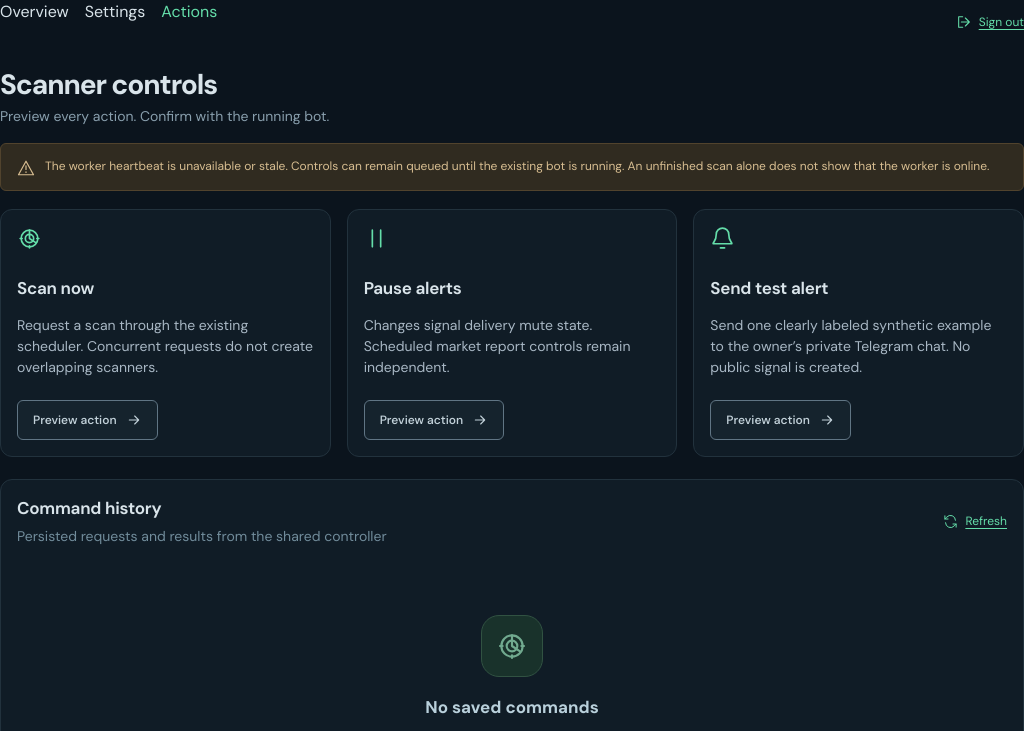
Scenario: shows failures and uncertain results without optimistic success
Check: the heading "Scanner controls" is shown, box [0,66,217,103]
Click the button "Preview action" below "Scan now": (87, 420) [17,400,158,440]
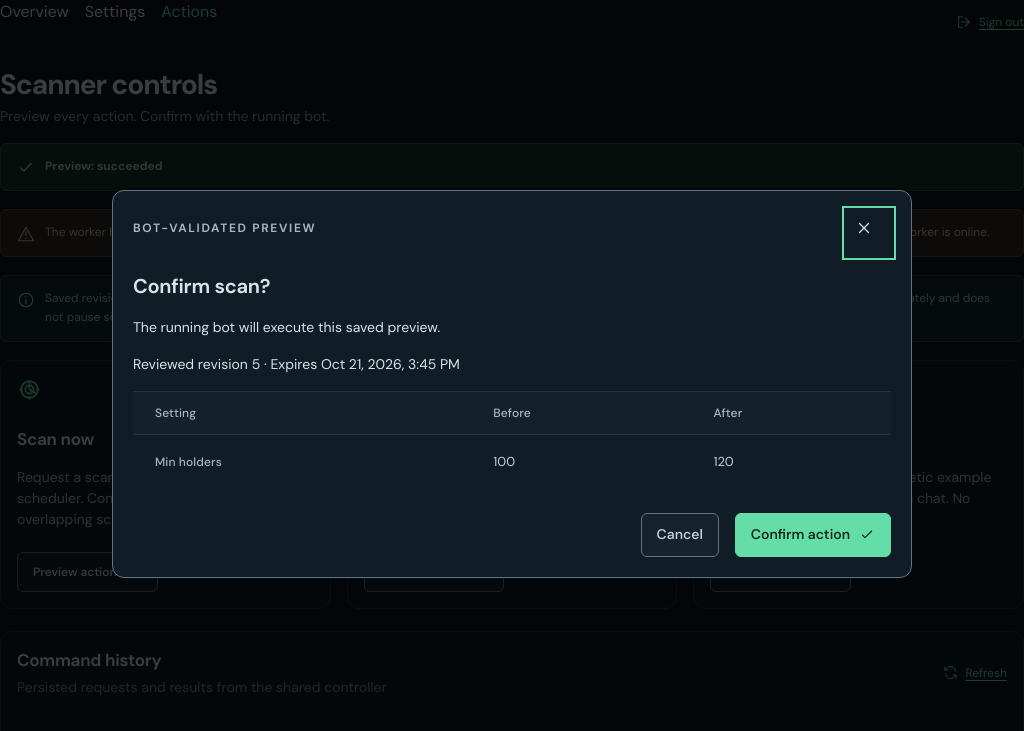
Click the button "Confirm action": (813, 535) [735,513,891,557]
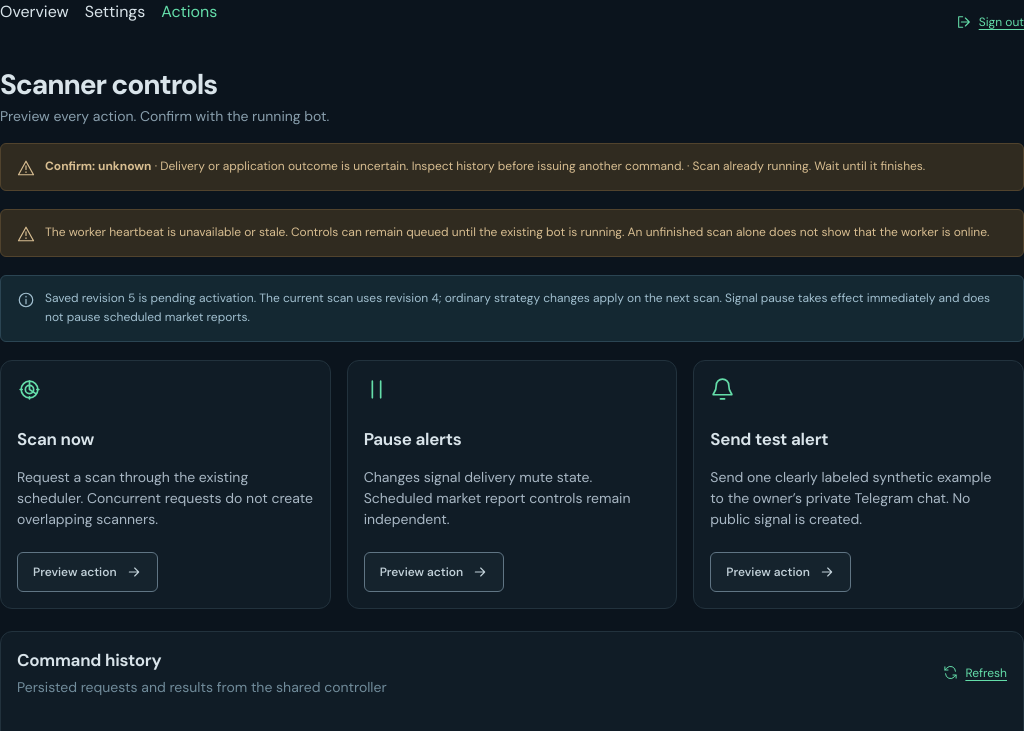
Check: the text "outcome is uncertain" is shown, box [152,158,684,174]
